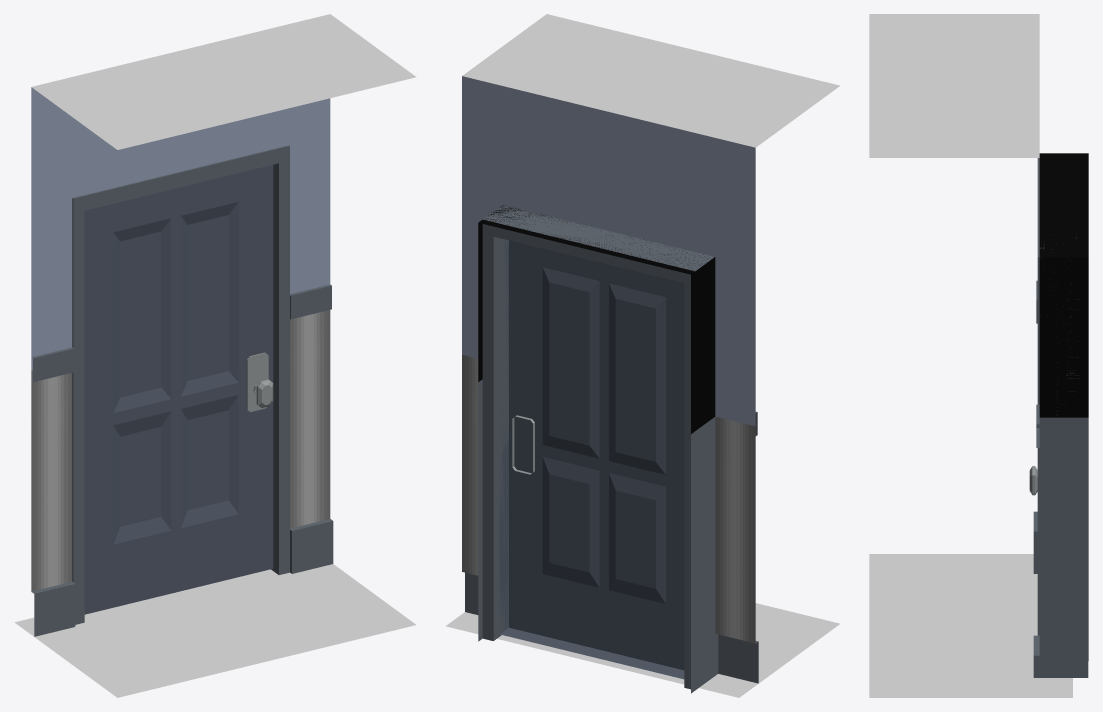
Rendered from roomA_wallDoorB_mdl.fbx.
The picture shows the model from 3 angles, left to right: view 1: azimuth 30°, elevation 25°; view 2: azimuth 150°, elevation 25°; view 3: azimuth 270°, elevation 25°; orthographic projection.
Parts seen in each view (by area): view 1: polySurface22, polySurface1, polySurface3; view 2: polySurface22, polySurface3, polySurface1; view 3: polySurface22, polySurface1, polySurface3.
Part boxes in pixels (<box>): polySurface22: <box>31,87,333,636</box>; polySurface1: <box>14,564,415,697</box>; polySurface3: <box>31,14,416,149</box>; polySurface22: <box>462,76,758,693</box>; polySurface3: <box>462,14,839,147</box>; polySurface1: <box>446,603,840,697</box>; polySurface22: <box>1029,153,1088,677</box>; polySurface1: <box>869,554,1072,697</box>; polySurface3: <box>869,14,1039,157</box>.
Size of the model in its own units: 2 by 3.5 by 1.29.
